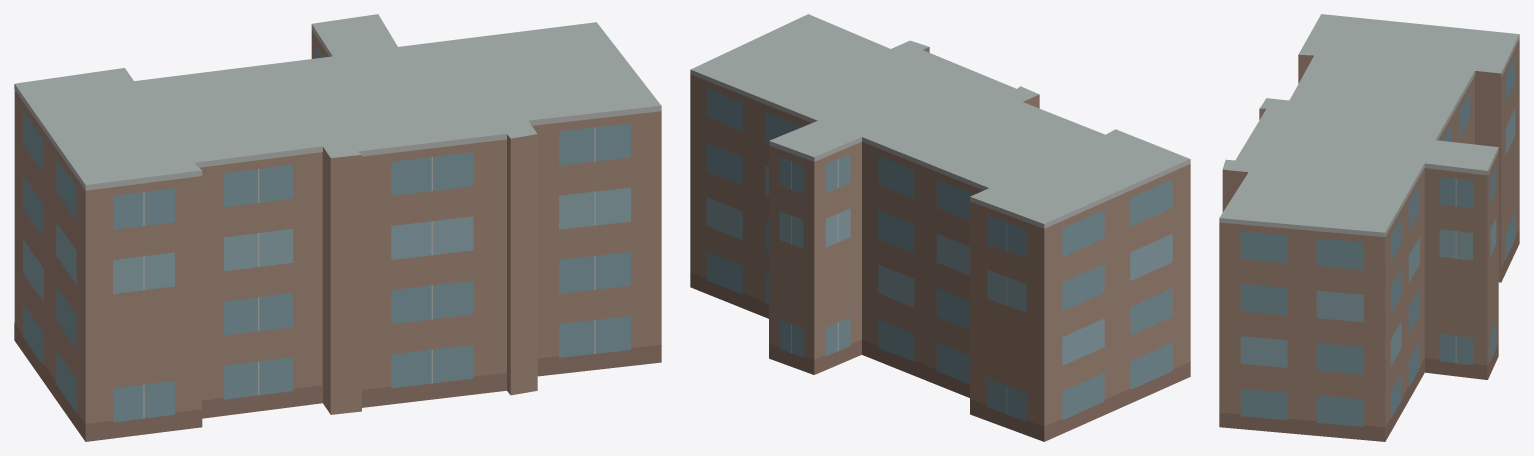
File: survey-upis-32916267.glb
3 views of the same model, side by side, from view 1: azimuth 30°, elevation 25°; view 2: azimuth 150°, elevation 25°; view 3: azimuth 270°, elevation 25° (orthographic). The views are drawn at different scales.
Visible parts, largest first — view 1: survey-upis-32916267.tmp; view 2: survey-upis-32916267.tmp; view 3: survey-upis-32916267.tmp.
Part boxes in pixels (left/top/right/bottom): survey-upis-32916267.tmp: left=14, top=14, right=661, bottom=441; survey-upis-32916267.tmp: left=690, top=14, right=1190, bottom=441; survey-upis-32916267.tmp: left=1219, top=14, right=1519, bottom=441.
Bounding box in the file's own units: 25.42 × 11.33 × 14.76.
